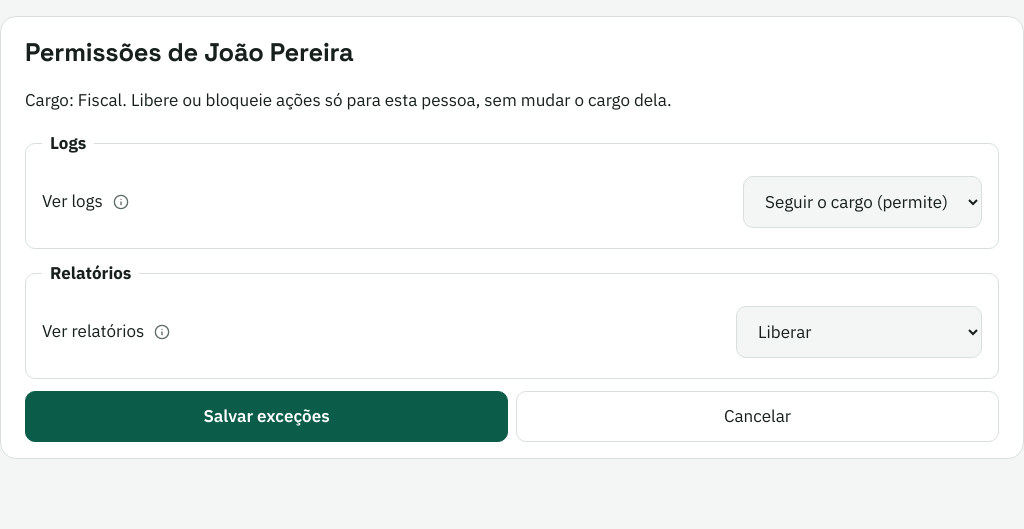
Test: OverridesEditor › mostra o erro de salvar quando falha com um valor desconhecido
Click the button "Salvar exceções" at (266, 416), box top-left (25, 391), bottom-right (508, 442)
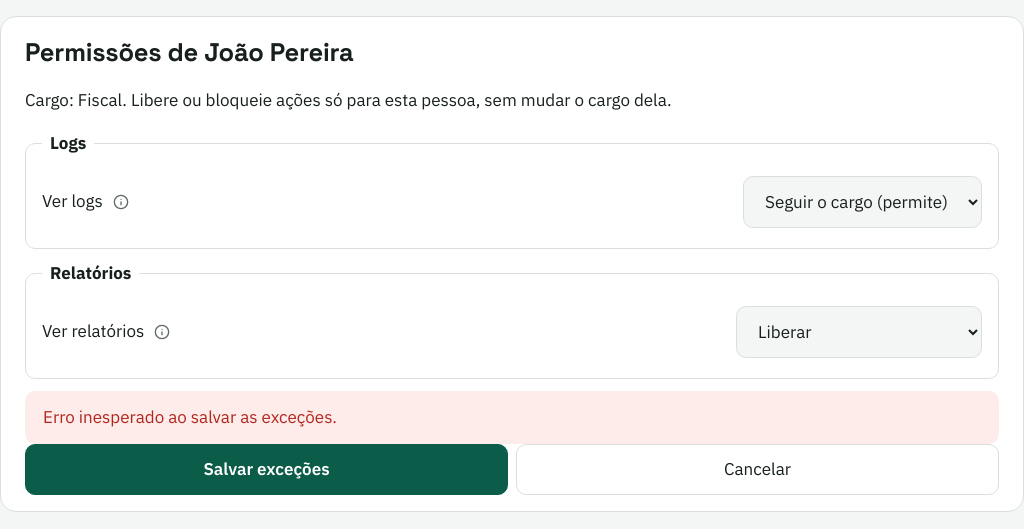
Expected: the button "Salvar exceções" is enabled, top-left (25, 444), bottom-right (508, 495)
Expected: the message reads "Erro inesperado ao salvar as exceções.", top-left (43, 406), bottom-right (337, 428)
